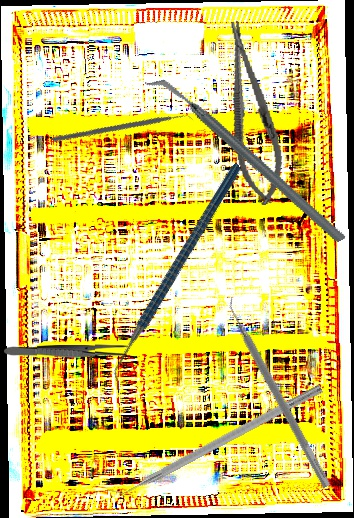Chopper: (54, 162, 301, 392), (143, 32, 349, 288), (103, 372, 324, 504), (51, 59, 197, 203)
Dressing Forceps: (3, 343, 129, 360)
Needle Holder: (212, 16, 292, 209)
Spatula Surgical: (220, 294, 340, 489)
